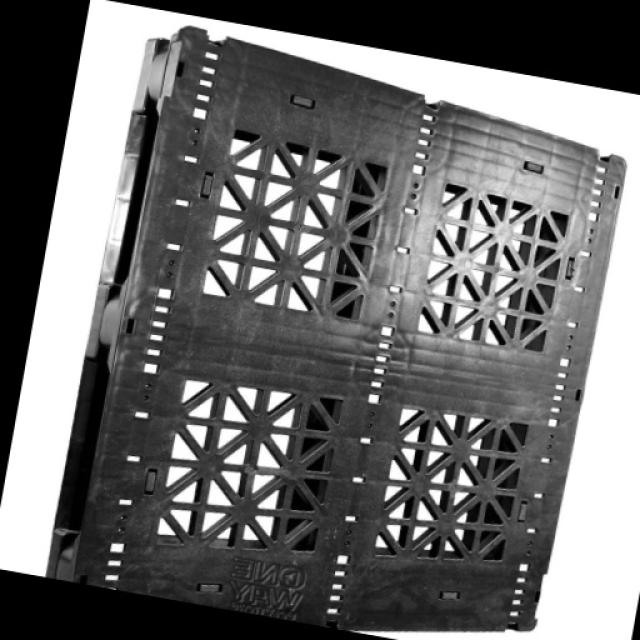non-igps: (42, 26, 630, 634)
